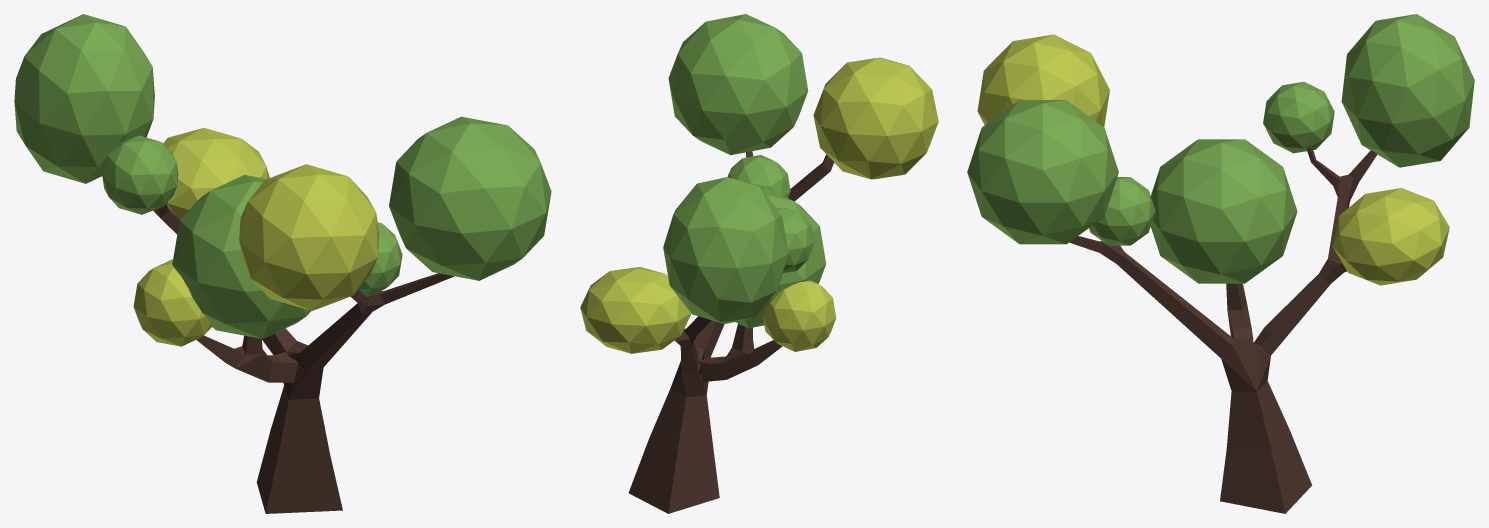
File: New_Tree_6_1.fbx
The picture shows the model from 3 angles, left to right: view 1: azimuth 30°, elevation 25°; view 2: azimuth 150°, elevation 25°; view 3: azimuth 270°, elevation 25°; orthographic projection. The views are drawn at different scales.
Parts seen in each view (by area): view 1: Icosphere.063, Icosphere.065, Icosphere.064, Cube.012, Icosphere.068, Icosphere.067, Icosphere.066, Icosphere.069, Icosphere.070; view 2: Icosphere.063, Icosphere.065, Cube.012, Icosphere.064, Icosphere.067, Icosphere.069, Icosphere.068, Icosphere.070, Icosphere.066; view 3: Cube.012, Icosphere.063, Icosphere.068, Icosphere.065, Icosphere.067, Icosphere.064, Icosphere.066, Icosphere.070.
Part boxes in pixels (x1,y1,x2,y2): Icosphere.063: (389,116,551,280); Icosphere.065: (14,14,154,183); Icosphere.064: (239,164,379,310); Cube.012: (153,204,453,513); Icosphere.068: (172,174,310,338); Icosphere.067: (163,128,269,218); Icosphere.066: (102,135,178,214); Icosphere.069: (133,259,211,346); Icosphere.070: (358,222,402,296); Icosphere.063: (668,14,808,155); Icosphere.065: (663,177,788,323); Cube.012: (628,151,834,513); Icosphere.064: (813,57,938,179); Icosphere.067: (580,267,691,353); Icosphere.069: (763,280,836,351); Icosphere.068: (735,187,826,328); Icosphere.070: (727,155,790,197); Icosphere.066: (777,207,814,272); Cube.012: (1069,148,1377,513); Icosphere.063: (967,100,1118,244); Icosphere.068: (1150,139,1297,283); Icosphere.065: (1341,14,1474,167); Icosphere.067: (1332,188,1449,285); Icosphere.064: (977,34,1109,126); Icosphere.066: (1263,81,1334,153); Icosphere.070: (1089,177,1155,245).
Size of the model in its own units: 238 by 328 by 364.
